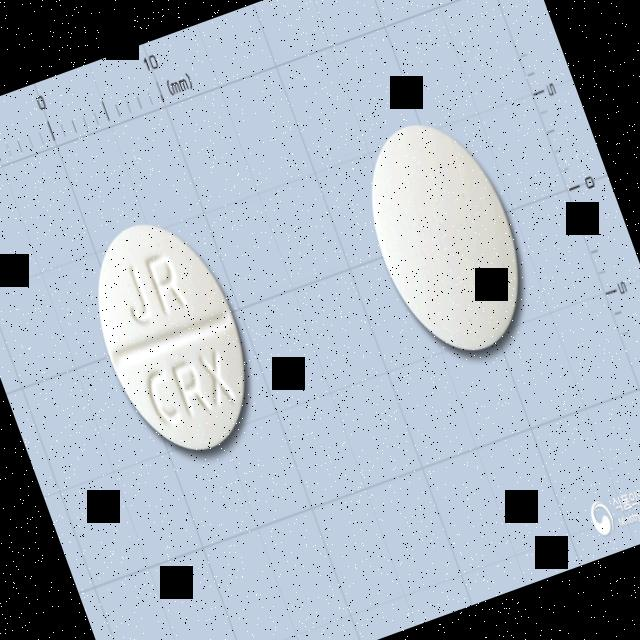Ciroxin - 250mg: (65, 199, 280, 482)
